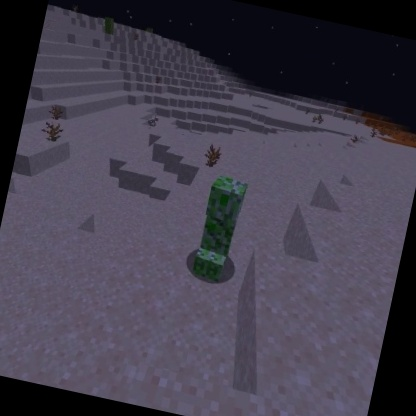creeper: (183, 170, 252, 289)
